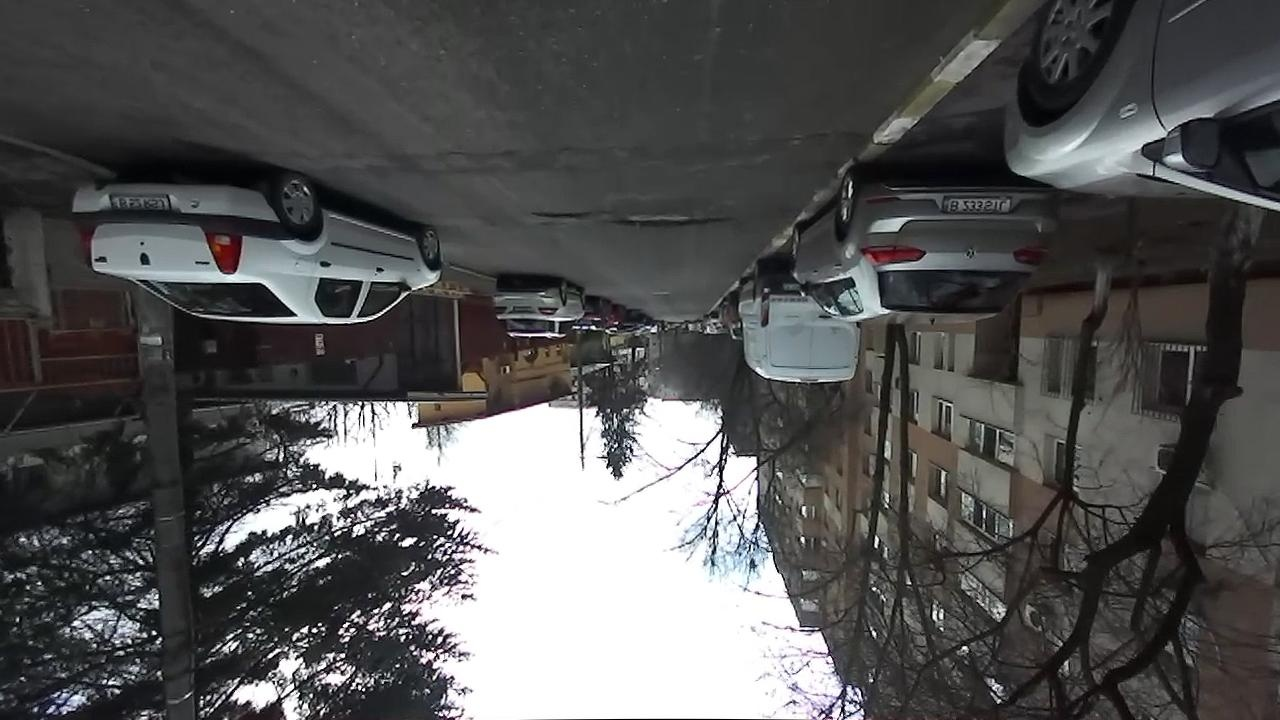pothole: (611, 209, 737, 230), (529, 208, 594, 222)
